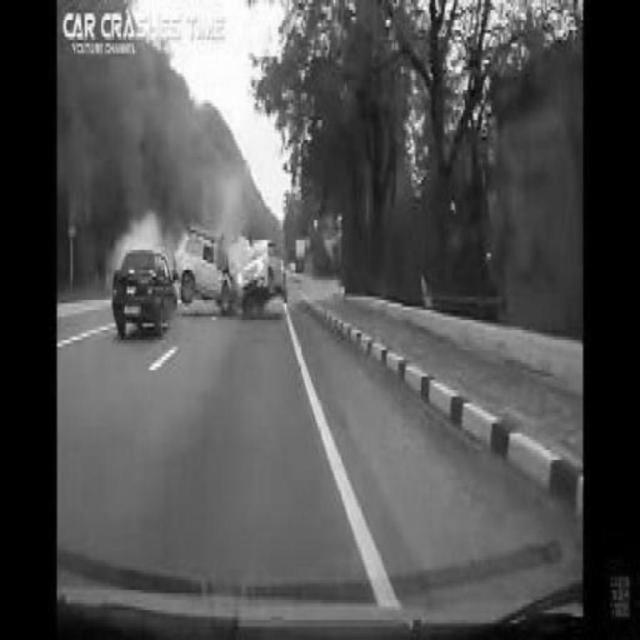accident: (171, 220, 295, 313)
vehicle: (109, 247, 173, 347)
